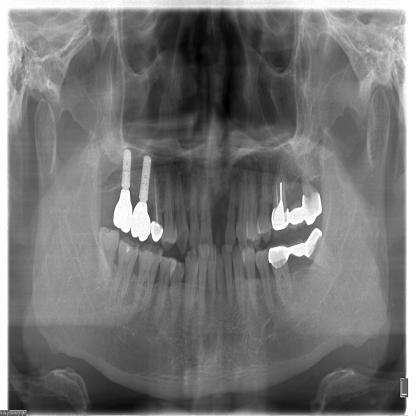ITI: (136, 151, 154, 202), (119, 146, 134, 193)
